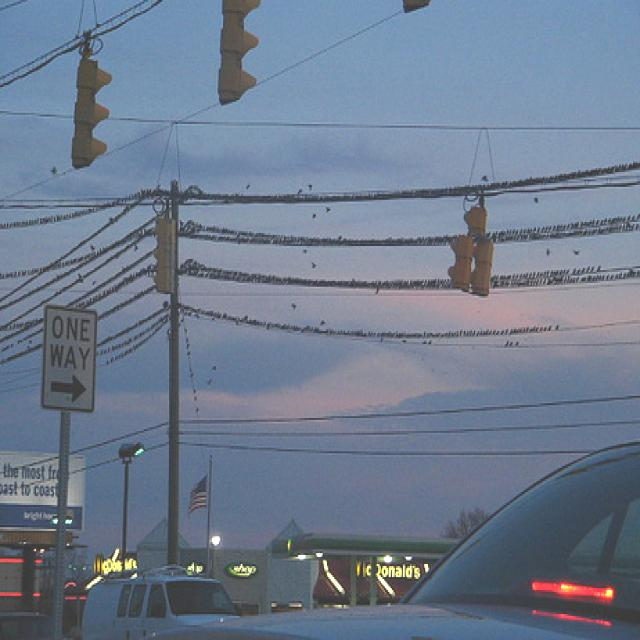Vehicle: (165, 434, 640, 640), (81, 566, 242, 640)
